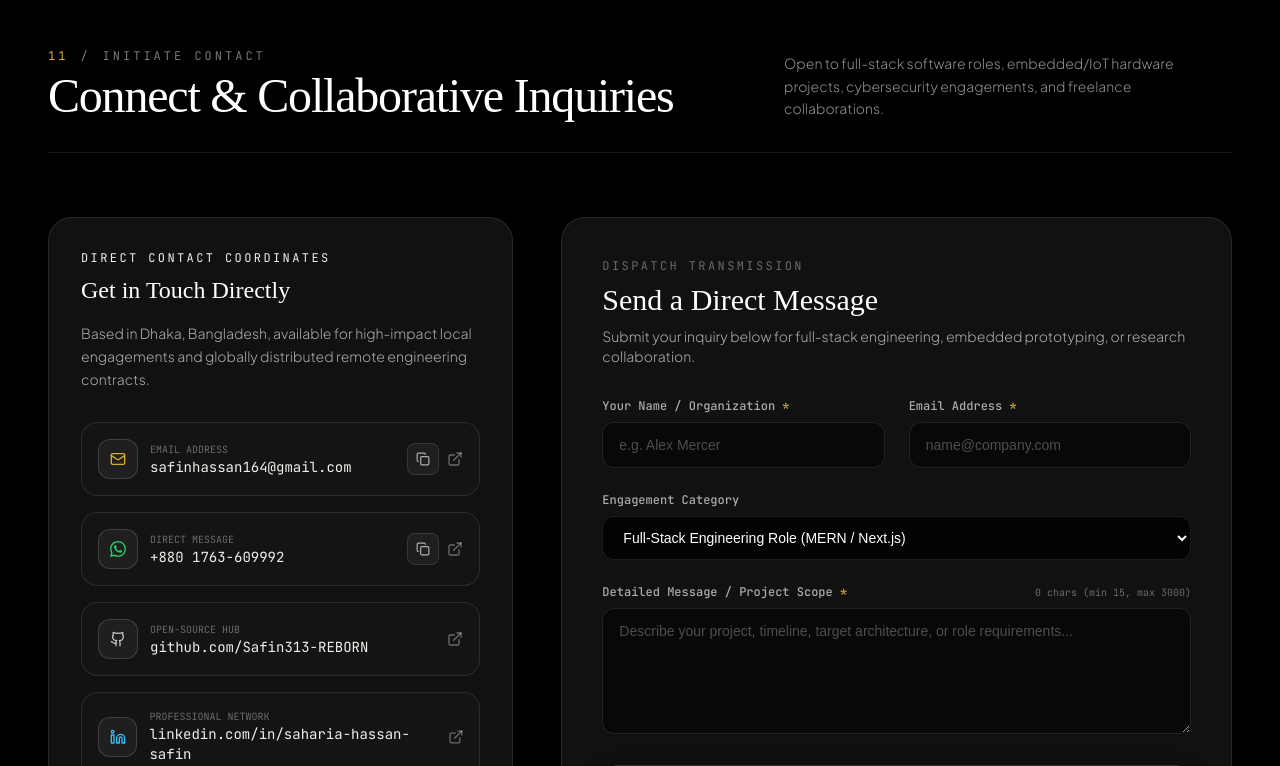
Test: ContactSection User Journey & Boundary Validation › validates invalid email format
Type "Jane Doe" into the field labelled "Your Name / Organization *".
click(743, 445); type("Jane Doe")  # box [602, 422, 885, 468]
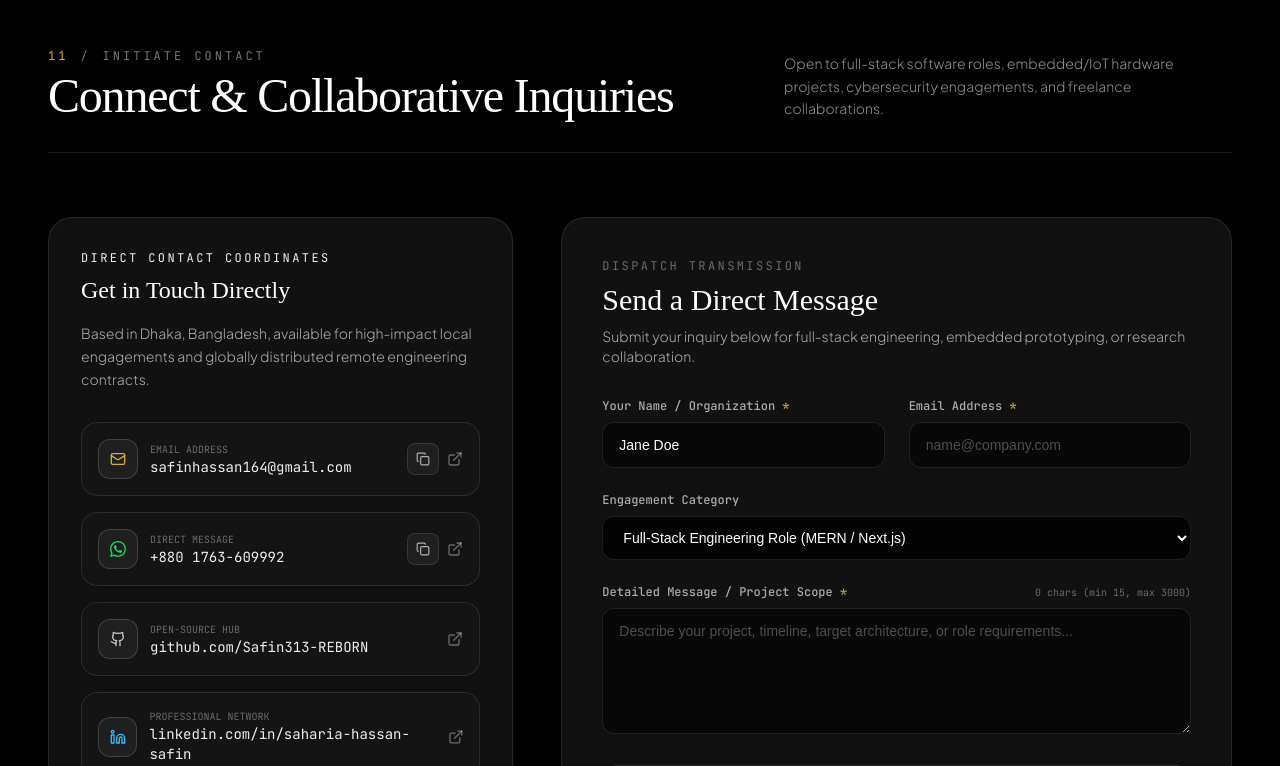
Type "not-an-email" into the field labelled "Email Address *".
click(1050, 445); type("not-an-email")  # box [909, 422, 1191, 468]
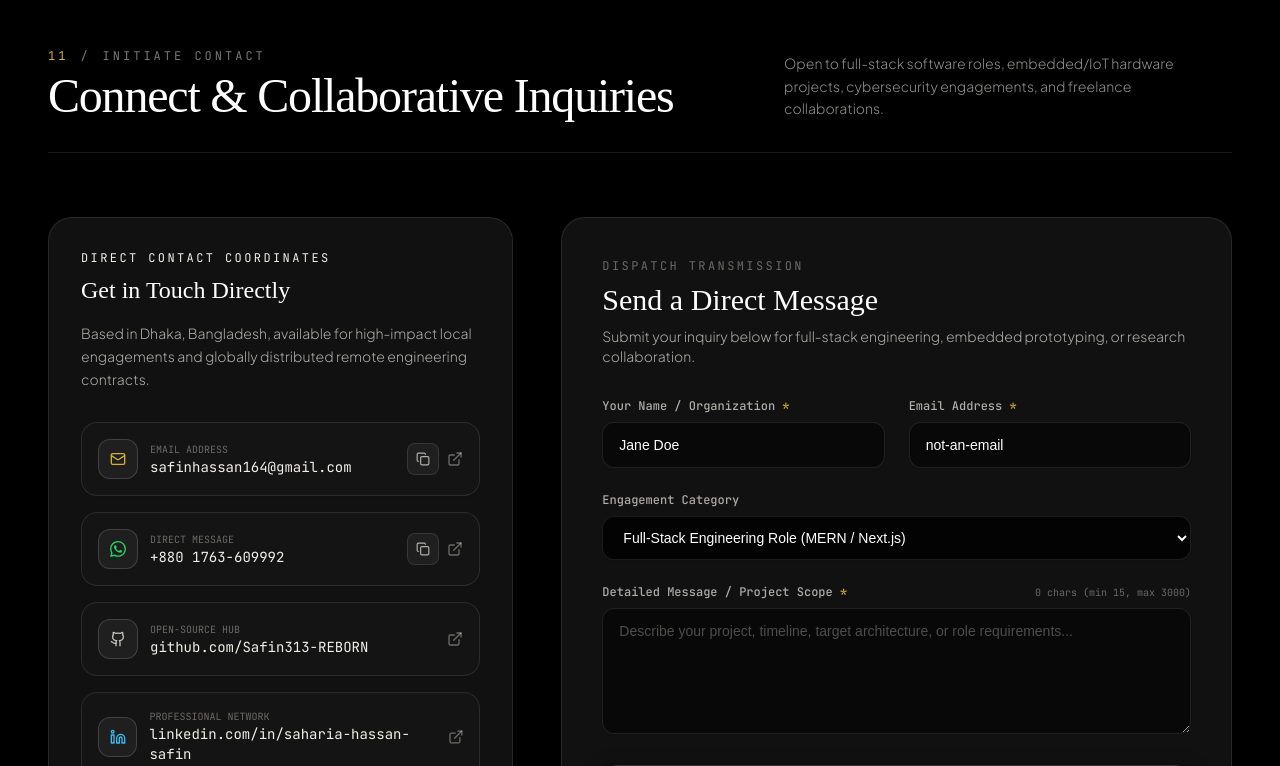
Replace the text in the text box labelled "Detailed Message / Project Scope *" with "Valid inquiry message that meets the minimum length." at [897, 671], box [602, 608, 1191, 734]
(page scrolled)
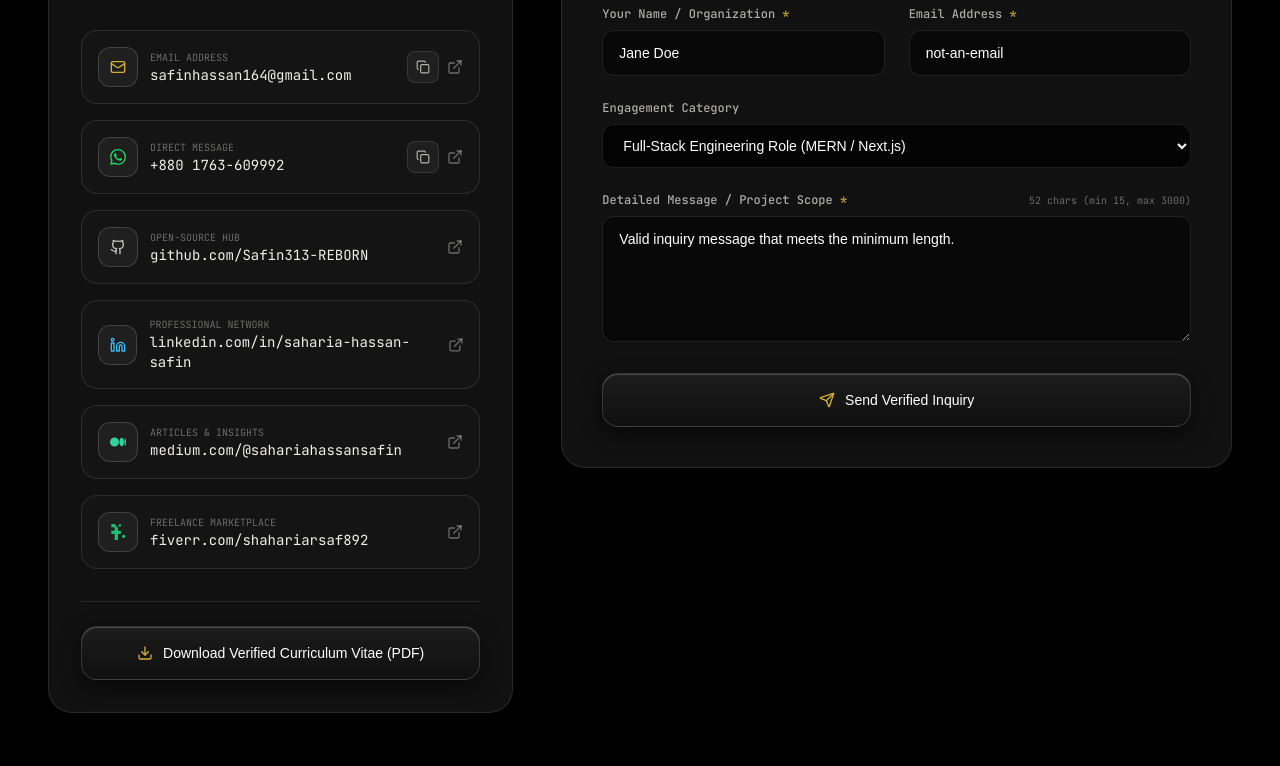
Click the button "Send Verified Inquiry".
click(897, 400)  # box [602, 373, 1191, 427]
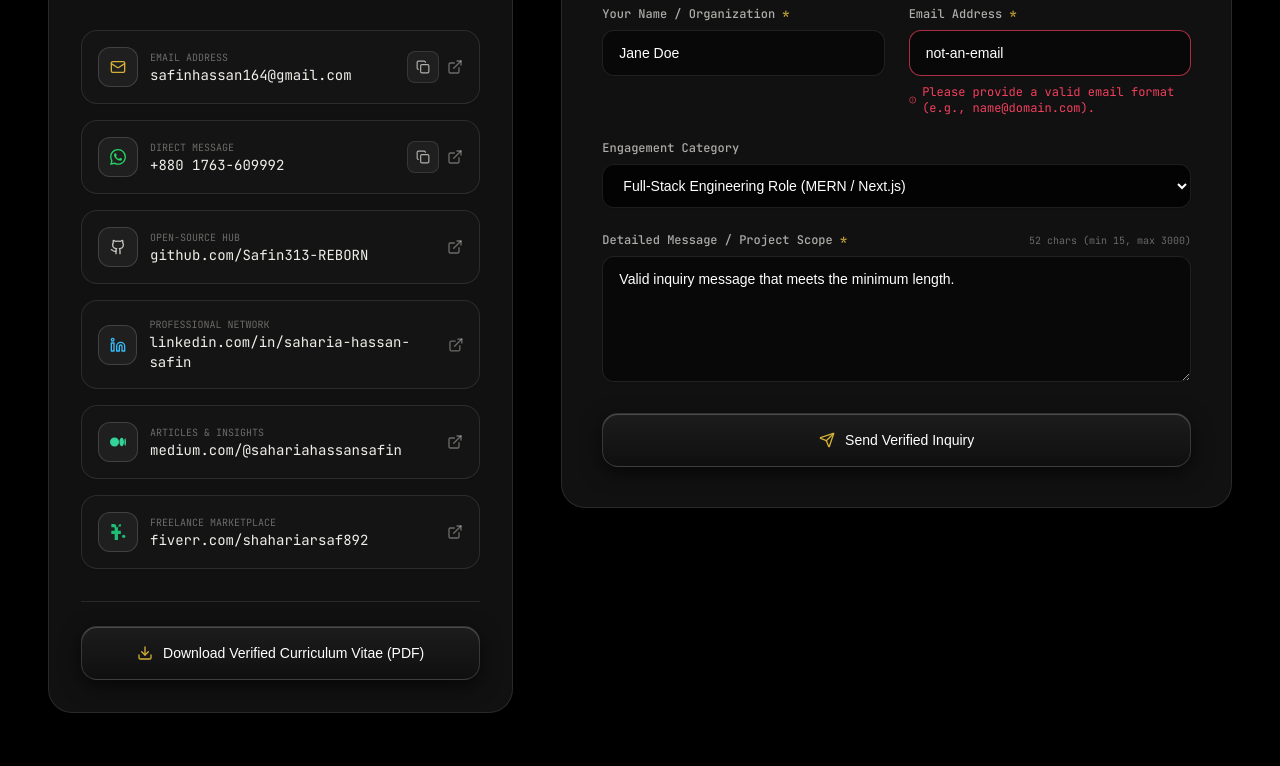
Expected: the text "Please provide a valid email format (e.g., name@domain.com)." is shown, [922, 84, 1191, 116]
